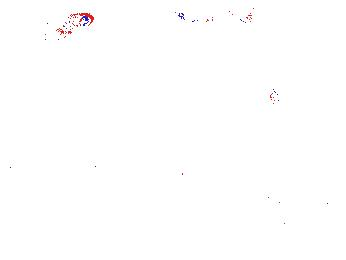glassfish: (264, 112, 346, 152)
red belly glassfish: (41, 13, 93, 42)
redtail glassfish: (177, 7, 253, 29)
